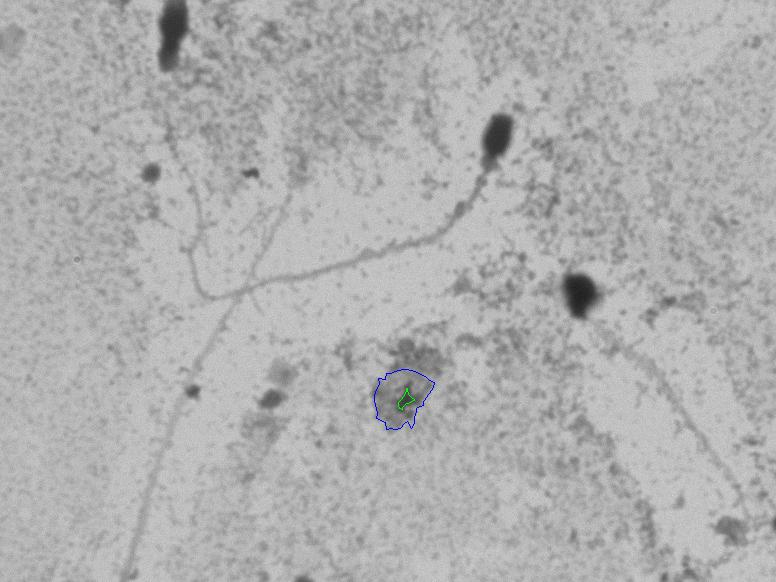Abnormal: (161, 88, 526, 314)
